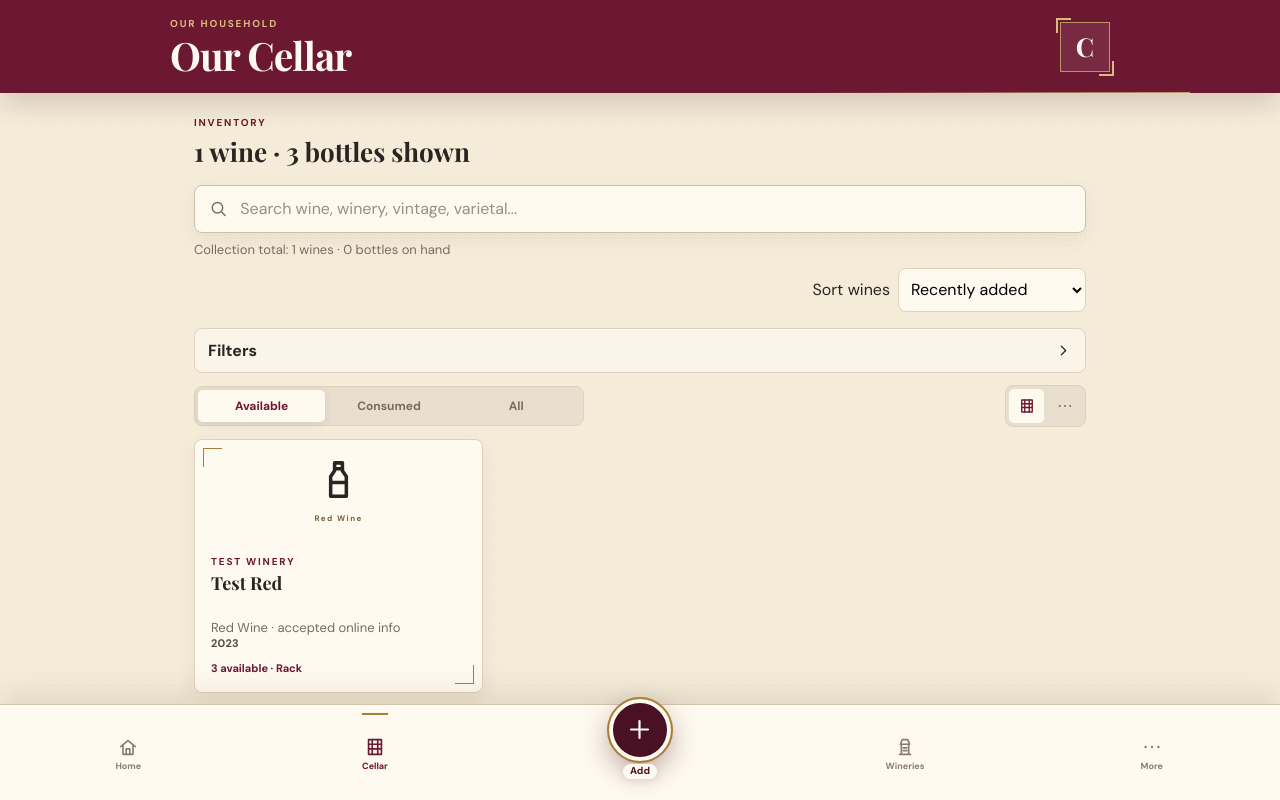
accepted Type appears in summary, search and filter and survives Back
The image size is (1280, 800).
Type "Red Wine" into the search field named "Search the cellar".
click(655, 209); type("Red Wine")  # box [238,197,1071,220]
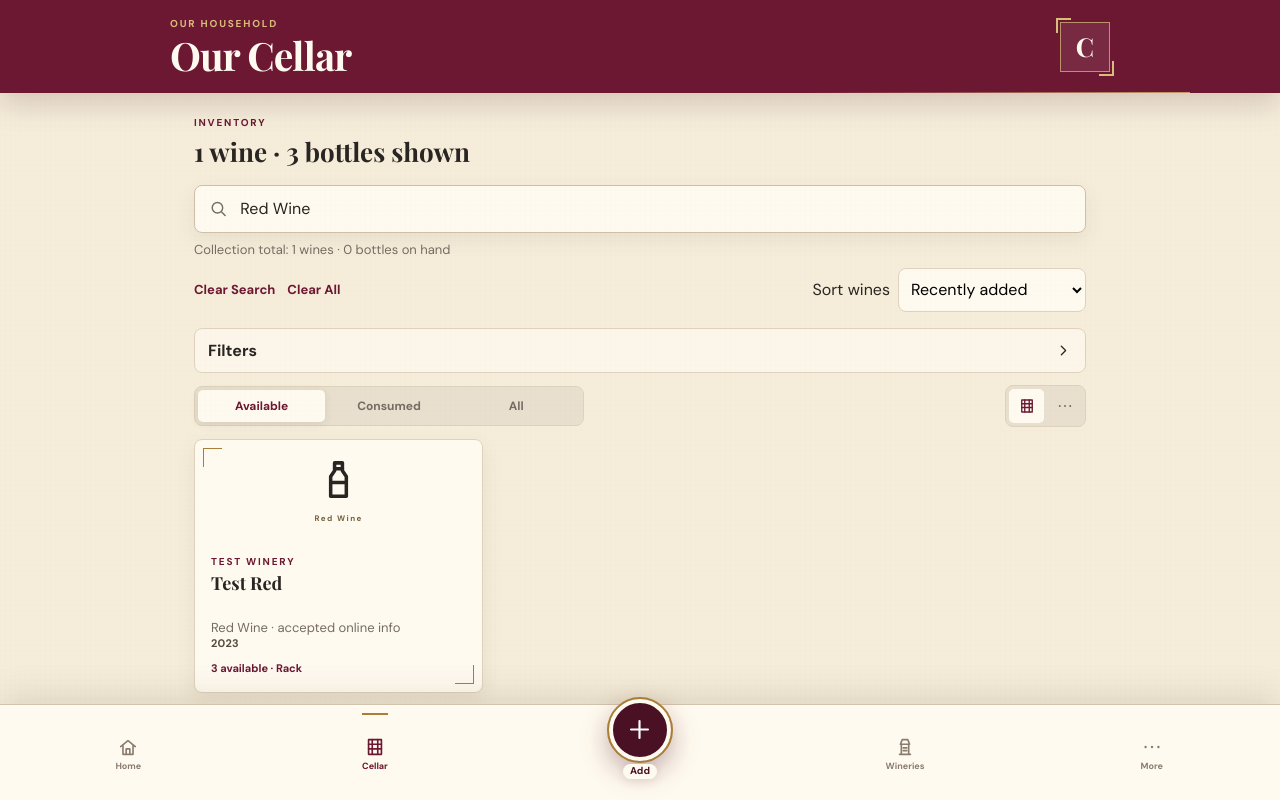
expect the button with aria-label "Open Test Red" is shown: met, box [195,440,482,540]
Click the button "Filters".
click(232, 350)  # box [194,328,1086,373]
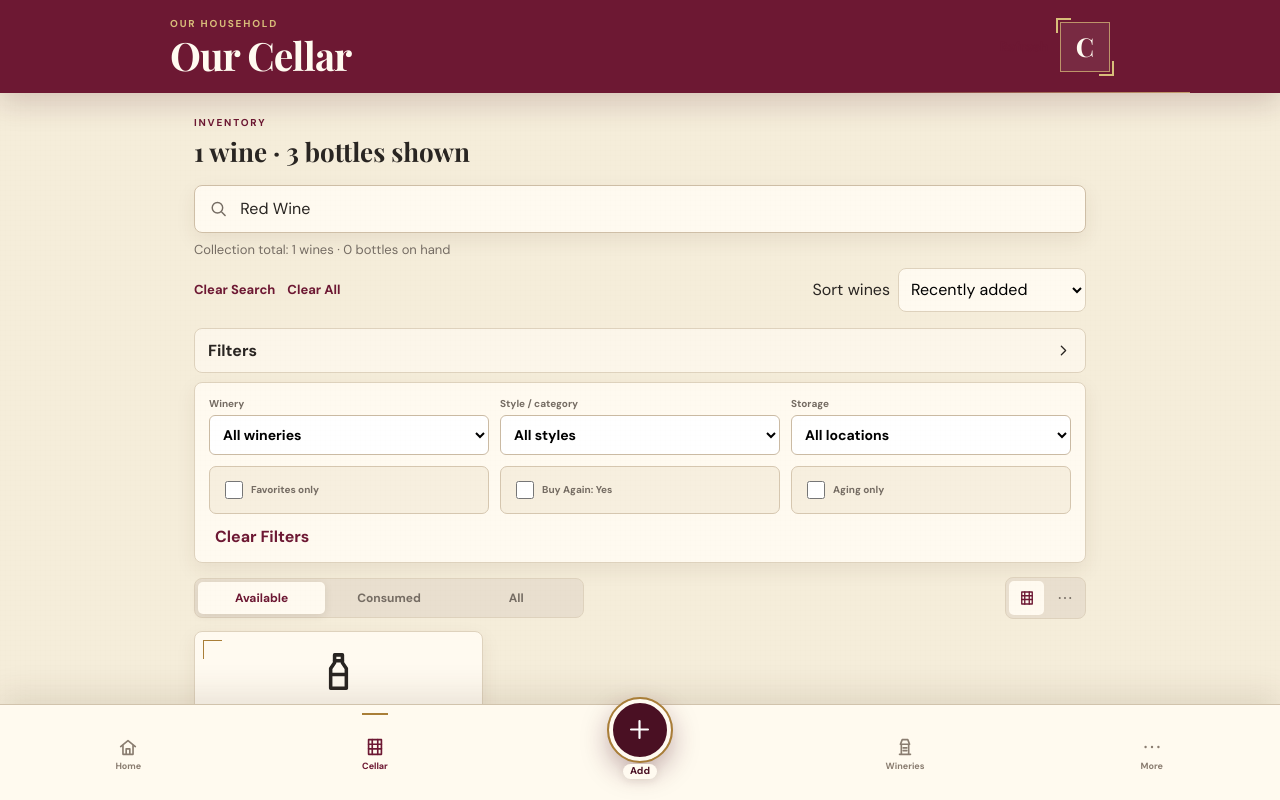
Select "Red Wine" in the dropdown labelled "Style / category" at (640, 435), box [500,415,780,455]
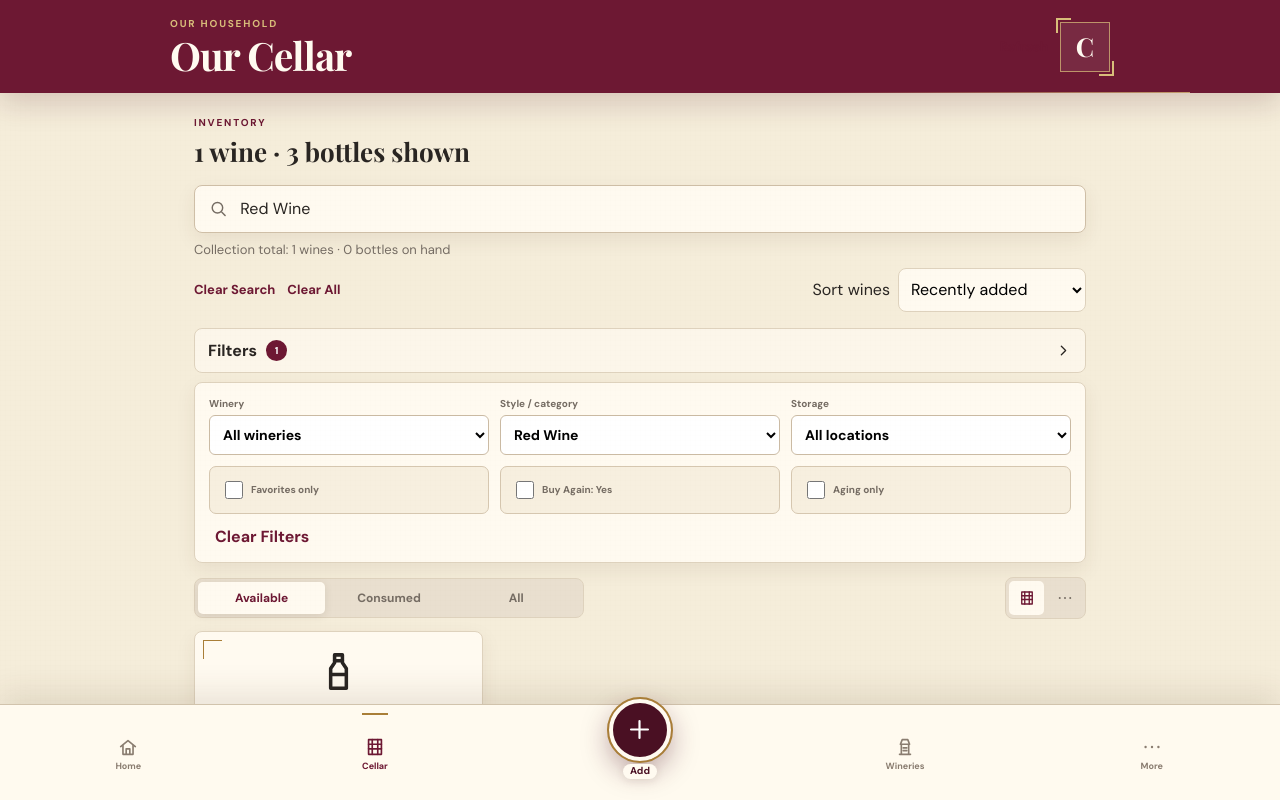
Click the button with aria-label "Open Test Red".
click(339, 682)  # box [195,632,482,732]
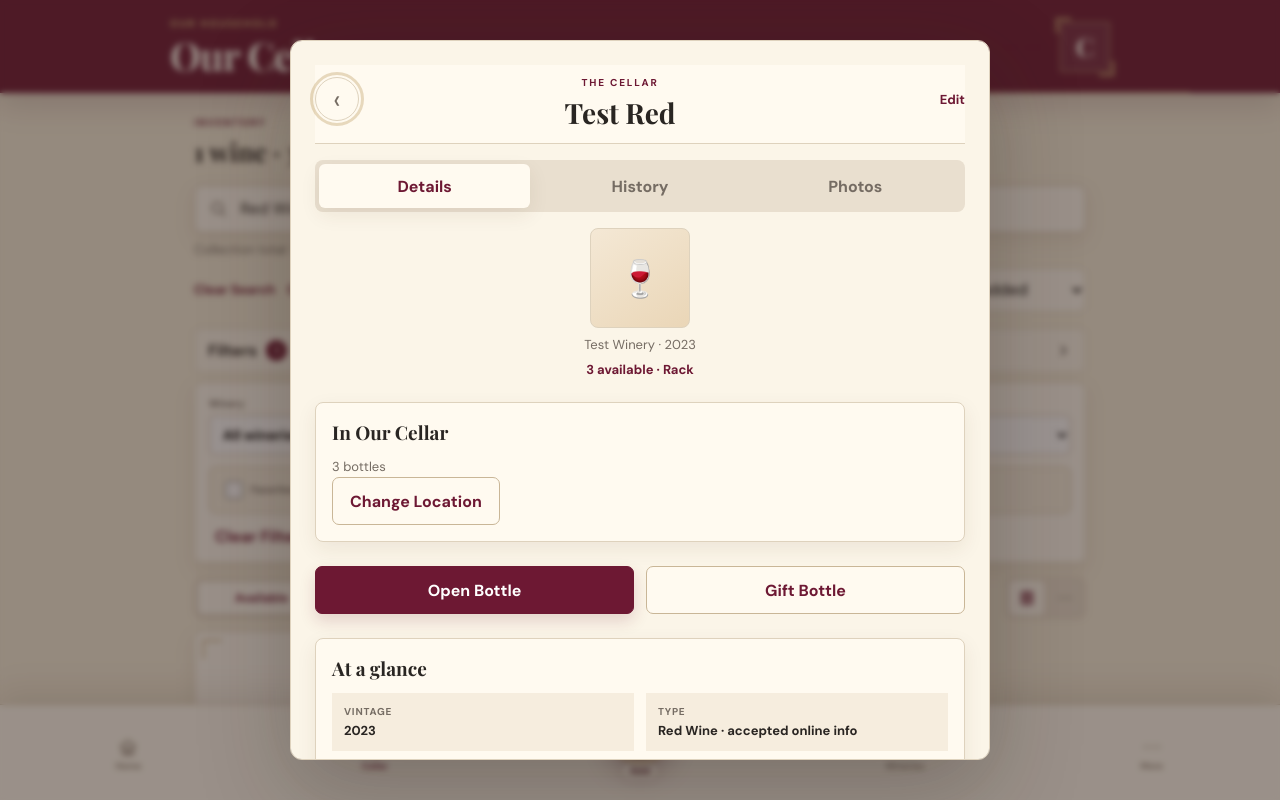
Click the button named "Back".
click(337, 99)  # box [315,77,359,121]
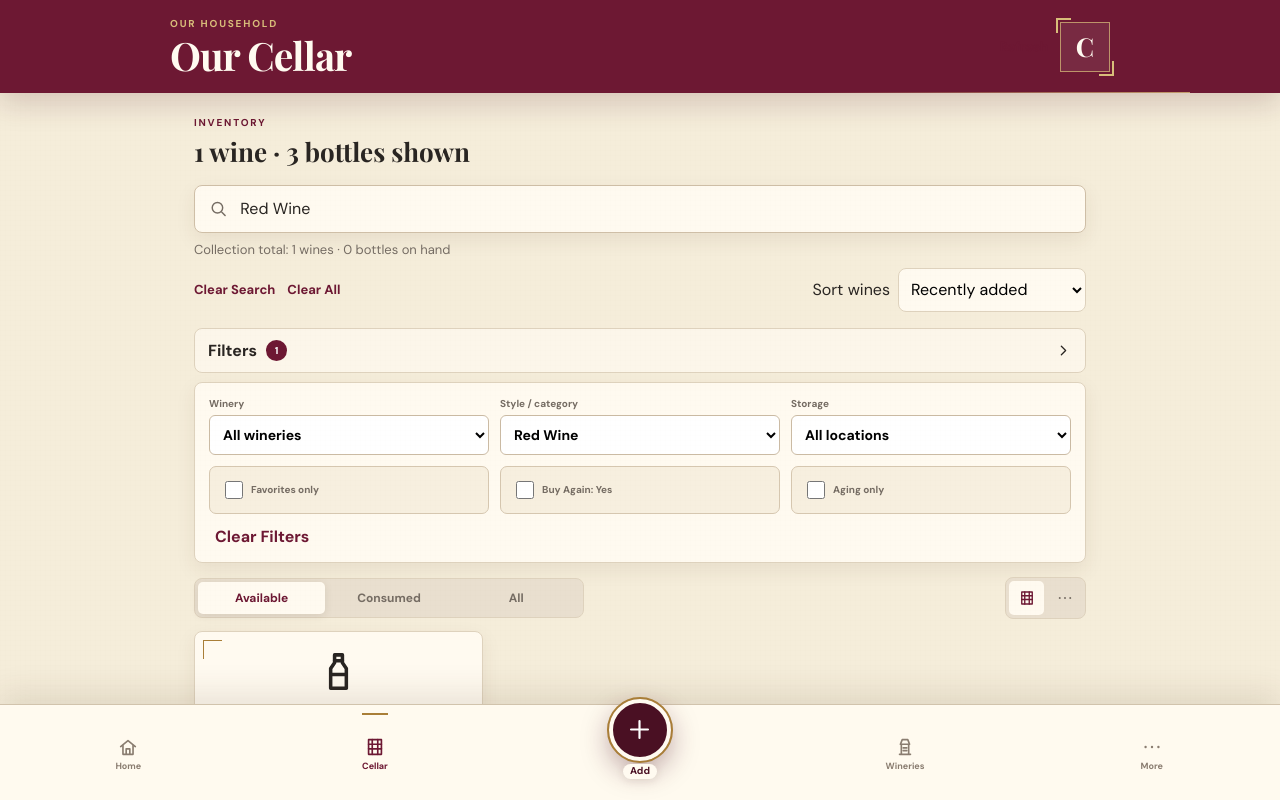
expect the dialog is gone: met
